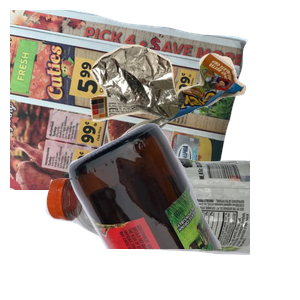glass: (66, 120, 300, 300)
paper: (10, 10, 250, 190)
plastic: (43, 152, 283, 300)
trash: (88, 42, 300, 219)
